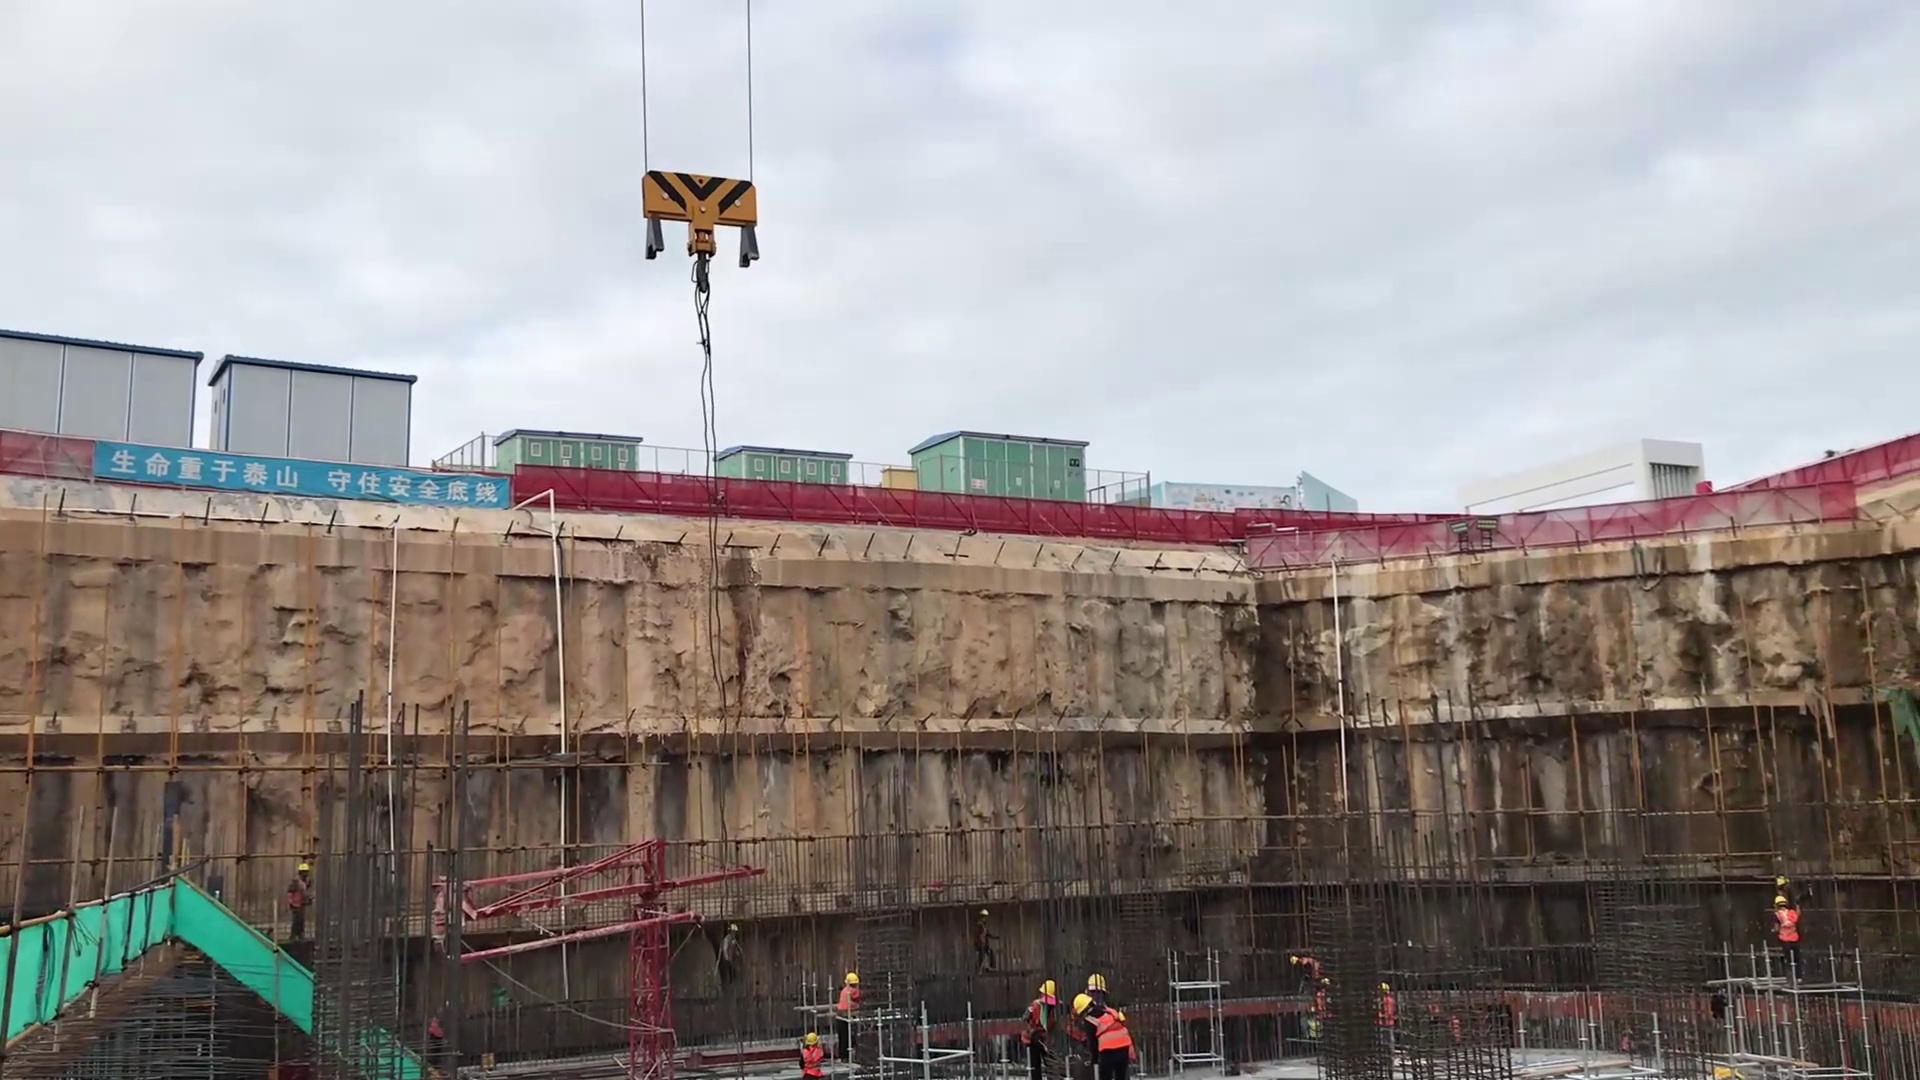helmet: (1071, 994, 1094, 1015), (1037, 979, 1057, 1000), (1085, 974, 1107, 993), (843, 972, 860, 985), (804, 1032, 820, 1046), (1773, 876, 1791, 888), (1377, 982, 1390, 994), (1774, 895, 1788, 906), (297, 863, 309, 871), (726, 924, 740, 932), (1288, 956, 1299, 965), (979, 908, 989, 917), (1321, 978, 1332, 987)
person: (1072, 993, 1138, 1080), (1019, 979, 1065, 1080), (1067, 973, 1107, 1080), (1769, 893, 1807, 987), (835, 972, 864, 1064), (1373, 981, 1399, 1065), (716, 923, 746, 996), (286, 862, 311, 940), (972, 908, 1001, 974), (1310, 978, 1334, 1044), (1709, 983, 1730, 1054), (1287, 953, 1322, 993), (798, 1031, 826, 1080), (1775, 876, 1800, 913)
vest: (1087, 1010, 1131, 1051), (1022, 1001, 1052, 1044), (1772, 911, 1799, 942), (800, 1045, 822, 1077), (1373, 998, 1396, 1025), (288, 878, 308, 907), (837, 986, 861, 1012), (1312, 991, 1331, 1017)
